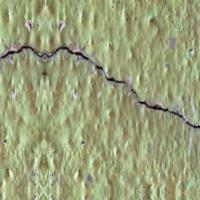crack: (1, 33, 199, 161)
